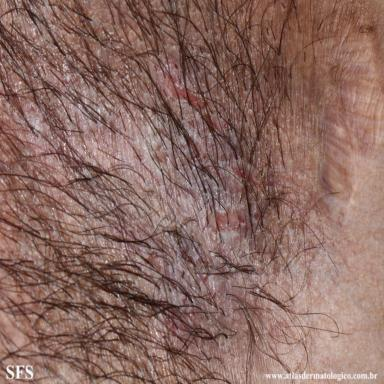Hailey-Hailey-Disease: (1, 0, 314, 360)
